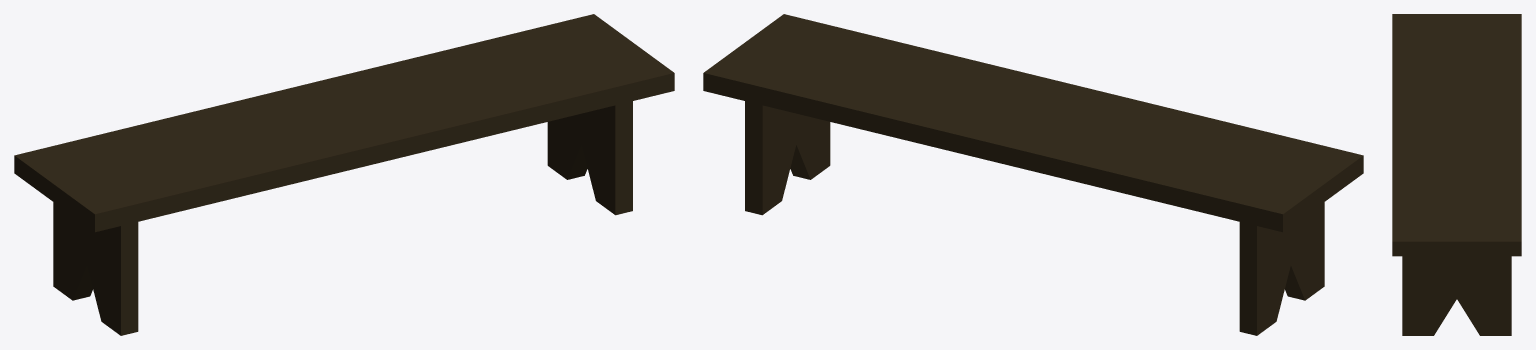
3 views of the same model, side by side, from view 1: azimuth 30°, elevation 25°; view 2: azimuth 150°, elevation 25°; view 3: azimuth 270°, elevation 25° (orthographic). The views are drawn at different scales.
Parts seen in each view (by area): view 1: Object064; view 2: Object064; view 3: Object064.
Boxes of the visible parts, <box> form: Object064: <box>14,14,674,335</box>; Object064: <box>703,14,1363,335</box>; Object064: <box>1392,14,1521,335</box>.
Bounding box in the file's own units: 2.14 × 0.4735 × 0.5147.
